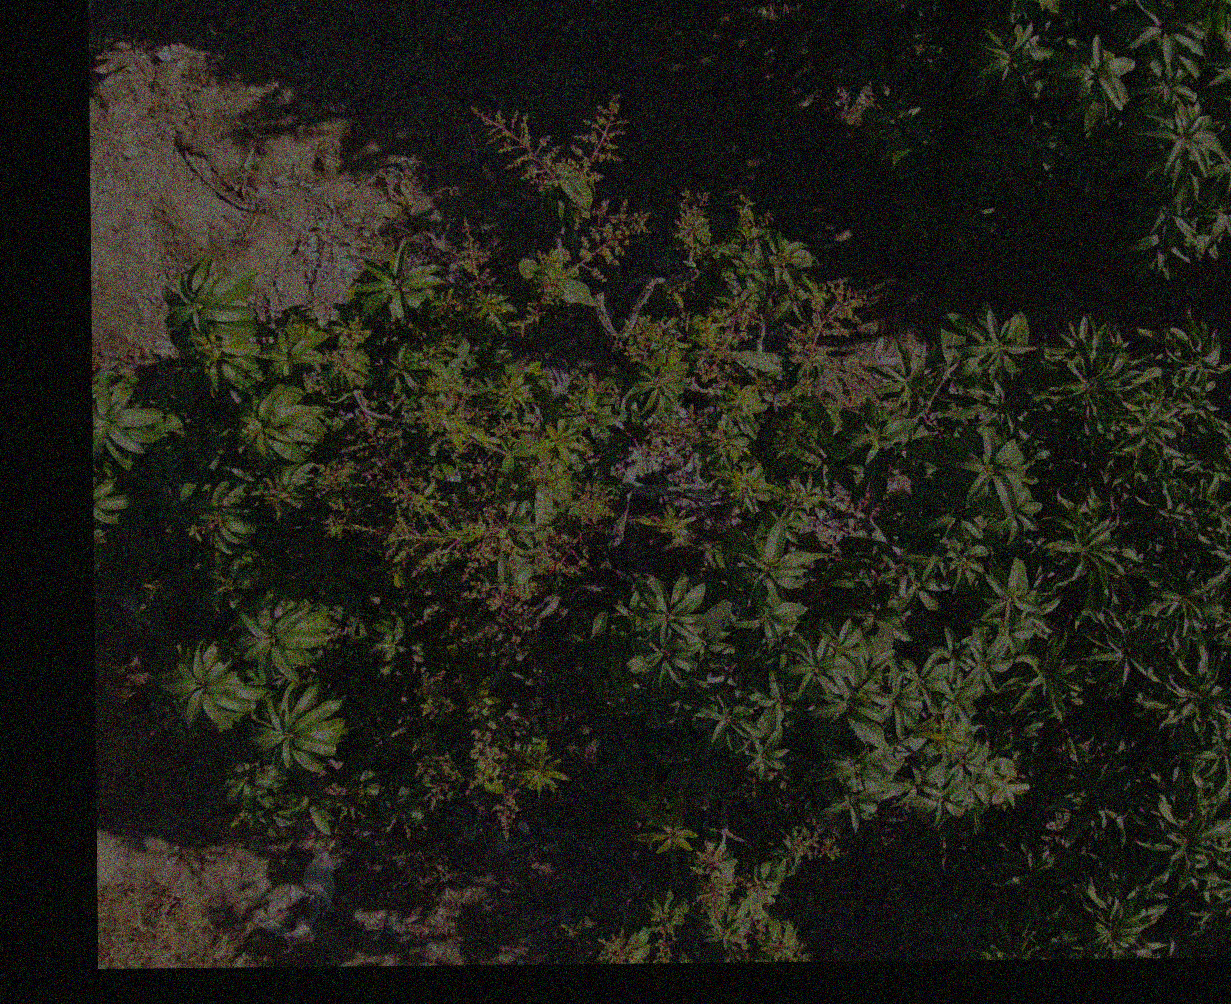flowers: (308, 240, 613, 669), (674, 200, 867, 514), (585, 828, 822, 962), (518, 200, 648, 333), (467, 675, 569, 835), (471, 95, 628, 192), (457, 220, 516, 334), (411, 684, 463, 809), (672, 189, 712, 265), (602, 314, 665, 361), (416, 669, 453, 716)
